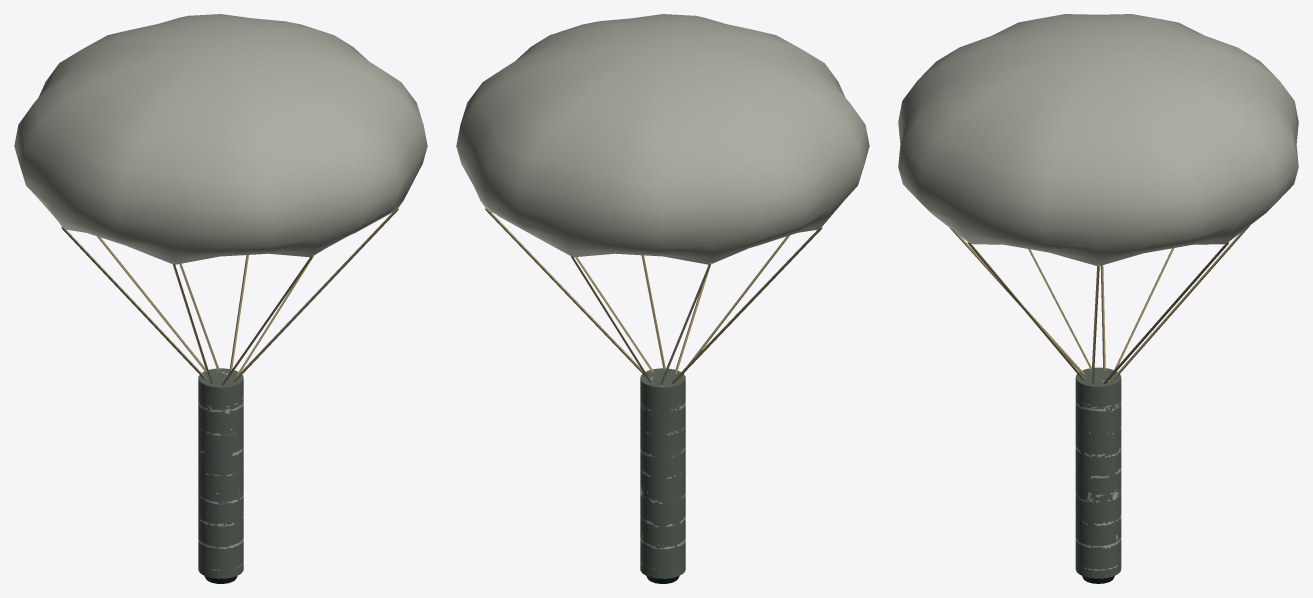
The model's file is m24-aircraft-parachute-flare.glb.
The picture shows the model from 3 angles, left to right: view 1: azimuth 30°, elevation 25°; view 2: azimuth 150°, elevation 25°; view 3: azimuth 270°, elevation 25°; orthographic projection.
Parts seen in each view (by area): view 1: CanopyDeployed, Canister, SuspensionLines; view 2: CanopyDeployed, Canister, SuspensionLines; view 3: CanopyDeployed, Canister, SuspensionLines.
Boxes of the visible parts, x1=… form: CanopyDeployed: x1=14, y1=14, x2=427, y2=264; Canister: x1=198, y1=368, x2=243, y2=578; SuspensionLines: x1=61, y1=208, x2=398, y2=384; CanopyDeployed: x1=456, y1=14, x2=869, y2=264; Canister: x1=640, y1=368, x2=685, y2=578; SuspensionLines: x1=485, y1=208, x2=822, y2=384; CanopyDeployed: x1=898, y1=14, x2=1298, y2=265; Canister: x1=1075, y1=367, x2=1121, y2=578; SuspensionLines: x1=950, y1=226, x2=1249, y2=383.
Bounding box in the file's own units: 1.78 × 2.61 × 1.78.
1 material, 1 textured.
